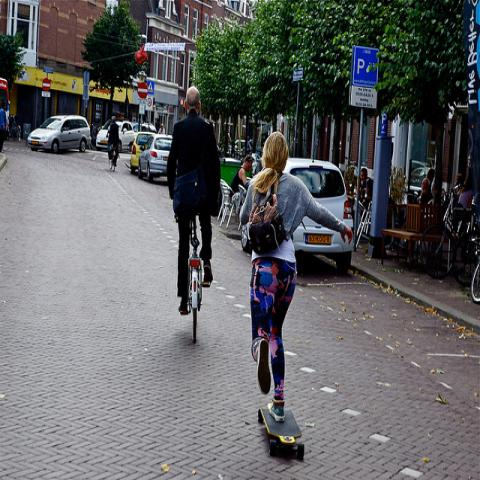bus: (1, 75, 8, 150)
car: (240, 146, 353, 273), (27, 114, 91, 154), (138, 135, 173, 182), (96, 119, 136, 152), (130, 131, 156, 175)
